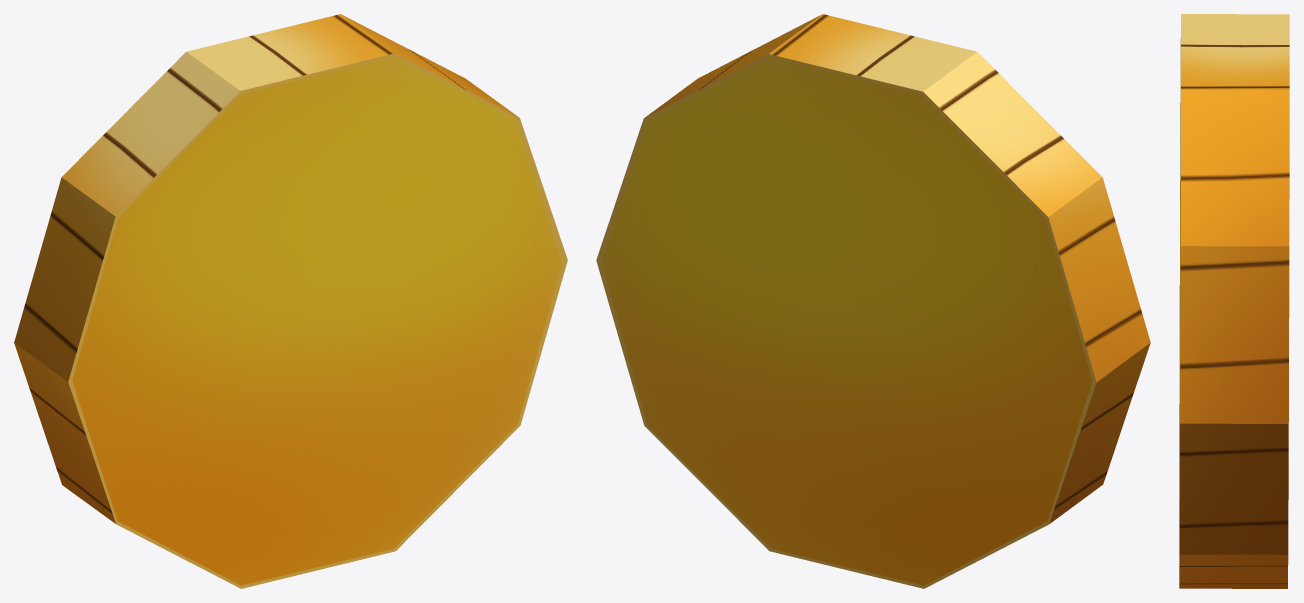
File: item_coin.fbx
The picture shows the model from 3 angles, left to right: view 1: azimuth 30°, elevation 25°; view 2: azimuth 150°, elevation 25°; view 3: azimuth 270°, elevation 25°; orthographic projection.
Parts seen in each view (by area): view 1: item_coin; view 2: item_coin; view 3: item_coin.
Boxes of the visible parts, bbox=[...] form: item_coin: bbox=[14, 14, 567, 588]; item_coin: bbox=[596, 14, 1150, 588]; item_coin: bbox=[1179, 14, 1289, 588].
Size of the model in its own units: 9.56 by 9.1 by 1.82.
